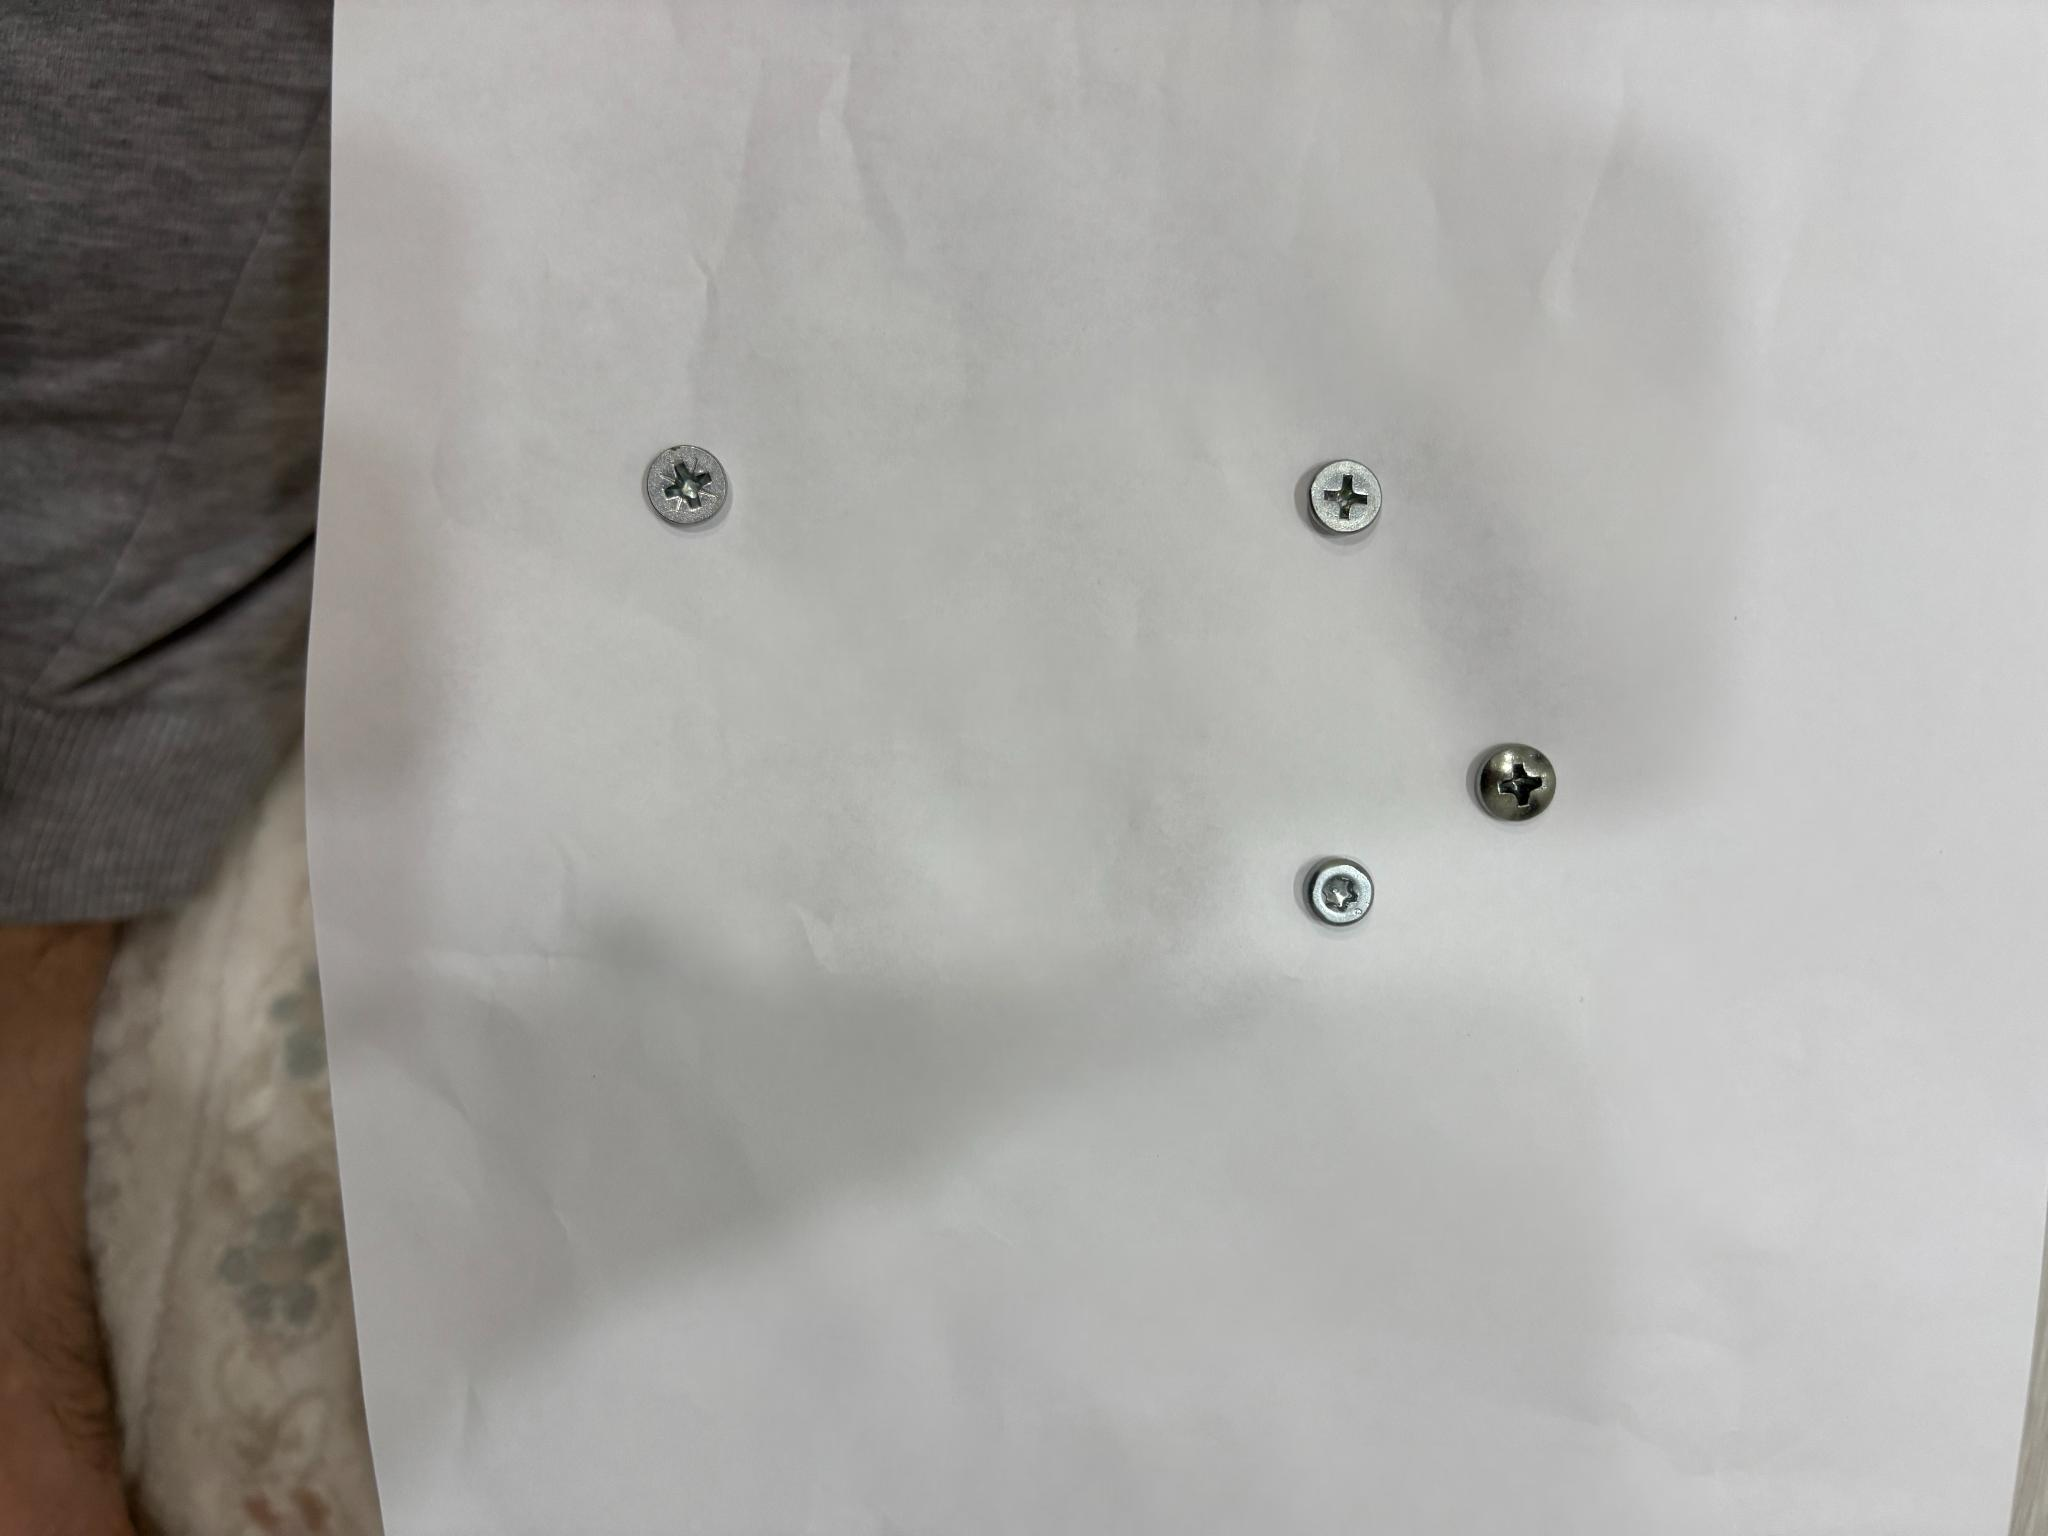PH: (1474, 744, 1556, 821), (1308, 460, 1382, 536)
PZ: (645, 445, 729, 526)
T: (1306, 858, 1372, 926)
